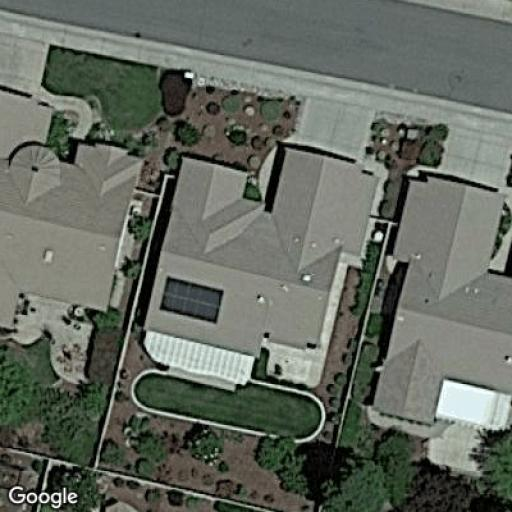solar-panel: (157, 274, 227, 325)
